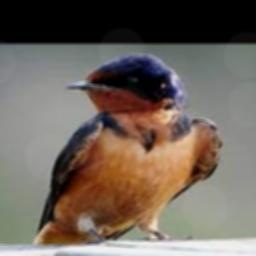Swallow: (33, 51, 223, 245)
